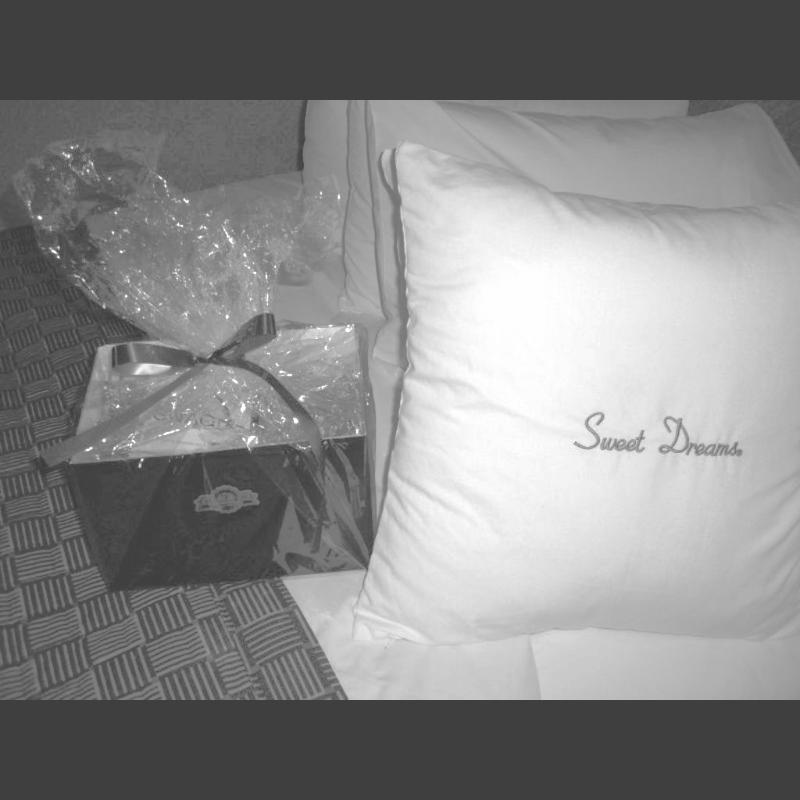pillow: (360, 100, 799, 372), (333, 100, 697, 320), (300, 100, 346, 262)
